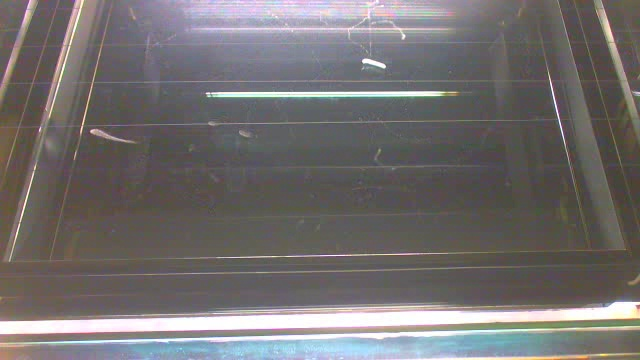Alfa: (87, 125, 139, 147), (360, 54, 388, 67), (237, 126, 255, 141)
